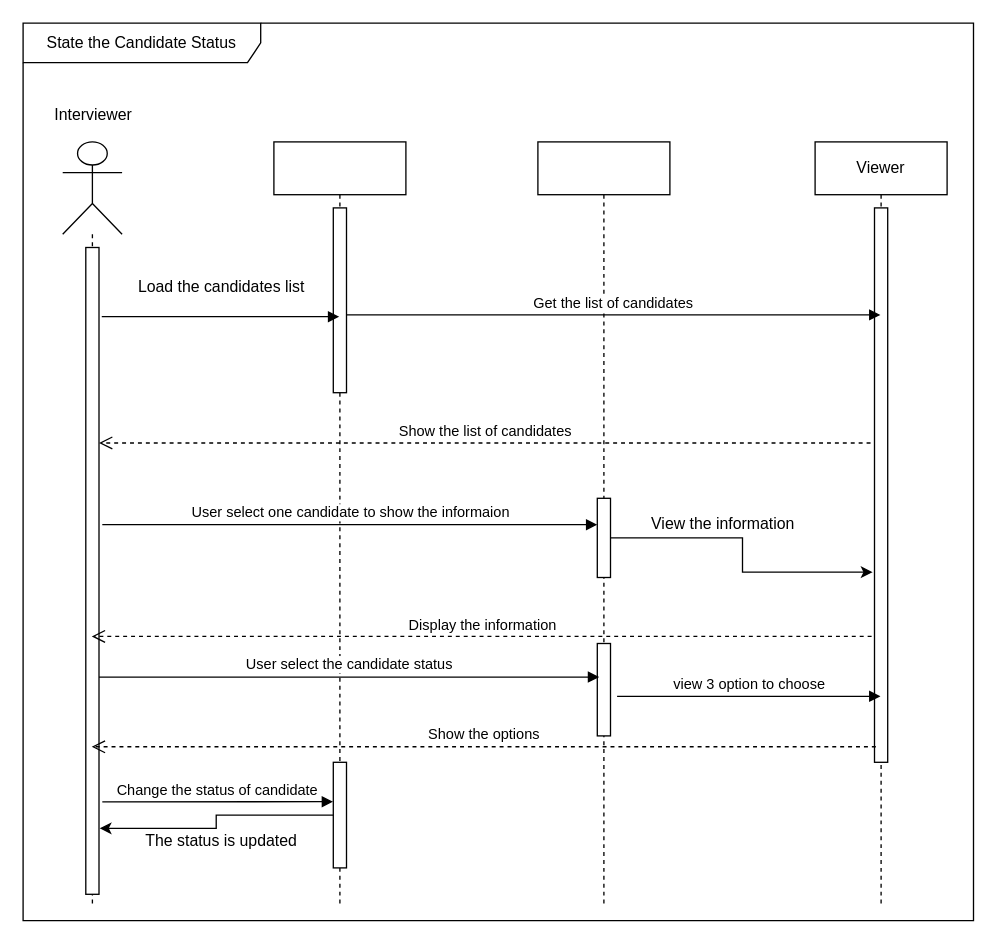
The diagram is 997 pixels wide and 944 high, and some of its shapes have lost their labels. Here are the shapes that lost their labels. From the top down, the box of each, then its label:
(273, 141, 406, 908): Candidates list
(537, 141, 670, 908): Selection
